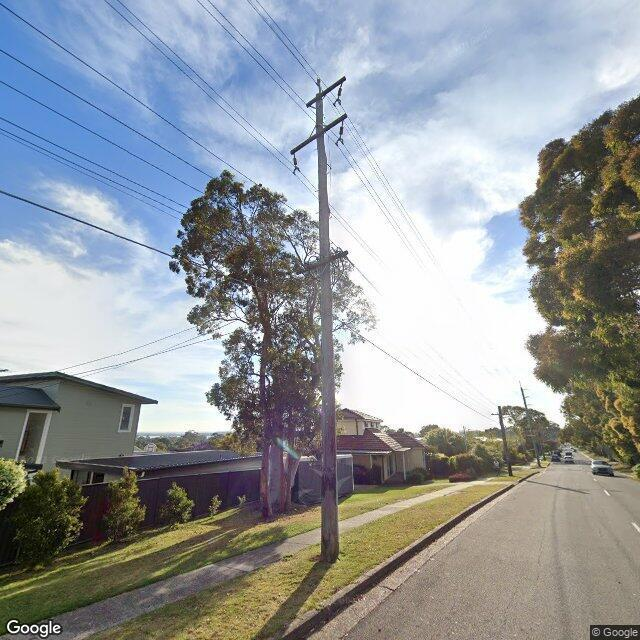HV-transmission: (293, 78, 344, 176), (518, 380, 532, 405)
crossarm: (290, 113, 346, 155), (306, 76, 346, 108), (297, 250, 348, 274), (491, 413, 506, 415)
timber-pole: (316, 93, 339, 562), (520, 387, 540, 468), (498, 406, 512, 476)
